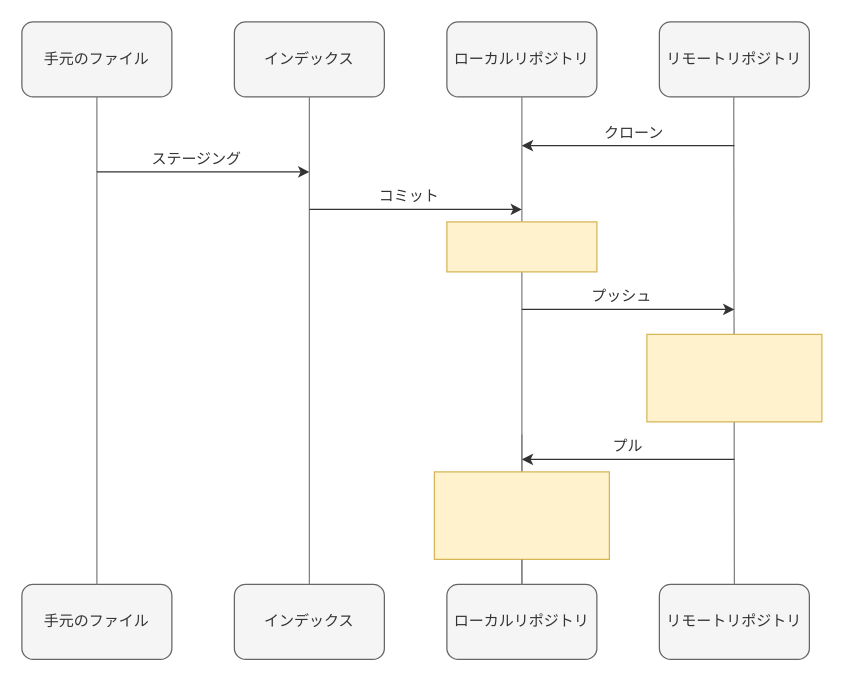
This 844x681 diagram has some shape labels left out. The shapes that lost their labels are listed below. From the top down, each one's centre as x and y in pixels, then its label:
the point at 521,246: 1. コミットを蓄積
the point at 734,377: 2. 複数人のコミットを蓄積 コミットを共有
the point at 521,515: 3. コミットを取込
